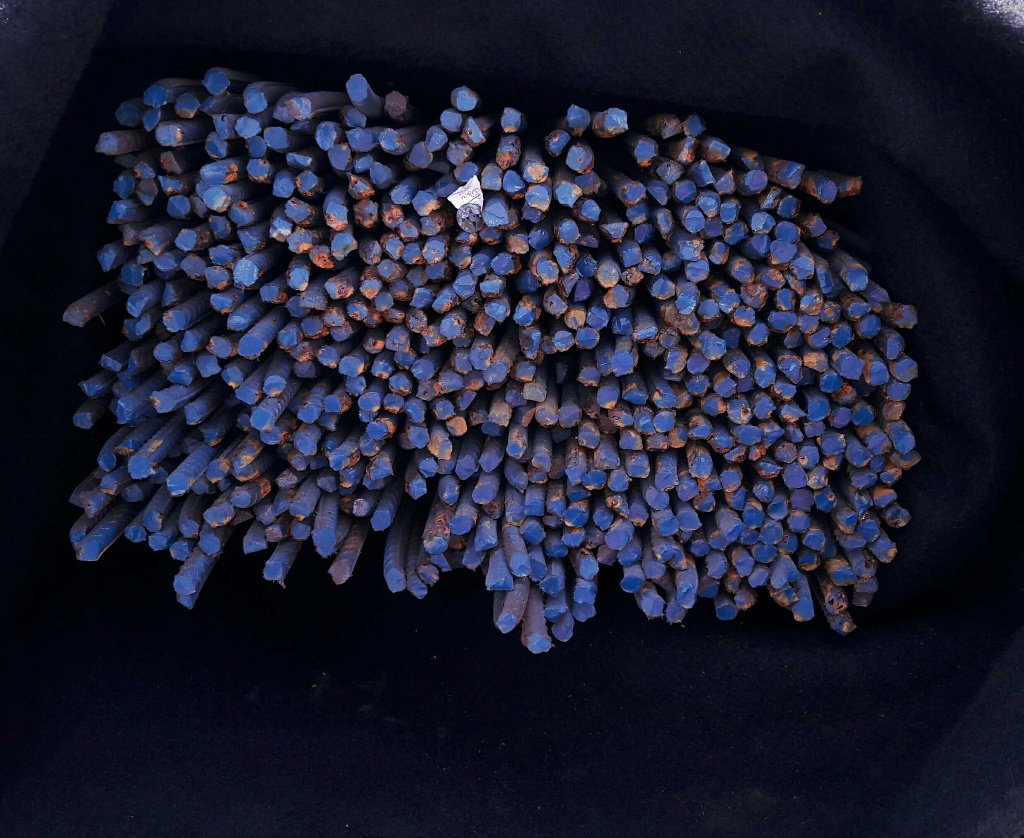dipstick: (566, 145, 594, 174), (114, 101, 143, 127), (285, 199, 313, 225), (331, 233, 357, 260), (634, 138, 659, 166), (620, 181, 646, 207), (779, 163, 805, 189), (677, 236, 703, 262), (202, 71, 229, 96), (328, 144, 353, 171), (740, 284, 767, 309), (237, 229, 265, 253), (325, 202, 348, 231), (412, 191, 438, 216), (544, 131, 570, 156), (173, 93, 199, 117), (204, 188, 230, 212), (346, 127, 372, 151), (370, 162, 394, 188), (770, 240, 797, 263), (435, 372, 463, 394), (768, 310, 797, 331), (207, 215, 231, 240), (661, 546, 686, 570), (727, 400, 752, 424), (678, 135, 698, 165), (156, 123, 182, 146), (205, 132, 228, 158), (247, 158, 273, 181), (348, 177, 374, 200), (409, 142, 432, 168), (366, 457, 392, 480), (778, 357, 801, 383), (142, 85, 169, 107), (203, 505, 230, 527), (346, 74, 368, 101), (315, 122, 336, 150), (243, 88, 267, 112), (234, 261, 258, 285), (287, 228, 311, 252), (381, 204, 405, 228), (286, 97, 311, 120), (465, 118, 488, 143), (526, 186, 549, 211), (567, 104, 590, 129), (605, 108, 628, 133), (782, 464, 807, 487), (648, 180, 671, 205), (864, 362, 889, 385), (385, 91, 407, 117), (425, 126, 447, 152), (451, 88, 477, 110), (688, 417, 714, 439), (159, 150, 182, 174), (230, 202, 253, 226), (422, 239, 445, 263), (654, 468, 678, 491), (491, 252, 515, 275), (484, 203, 508, 226), (664, 348, 687, 372), (778, 195, 801, 219), (852, 403, 876, 426), (325, 280, 354, 299), (235, 117, 260, 139), (161, 310, 186, 332), (80, 492, 102, 517), (296, 171, 318, 196), (557, 219, 579, 244), (537, 258, 559, 283), (750, 212, 775, 234), (238, 335, 264, 356), (439, 477, 460, 503), (525, 632, 551, 653), (200, 164, 227, 184), (269, 219, 292, 242), (641, 594, 664, 617), (484, 360, 507, 383), (790, 257, 813, 280), (894, 359, 917, 382), (139, 232, 161, 256), (181, 255, 205, 277), (264, 126, 288, 148), (453, 275, 475, 299), (450, 244, 472, 268), (821, 433, 845, 455), (659, 115, 683, 137), (692, 162, 714, 186), (842, 357, 864, 381), (895, 305, 917, 329), (196, 356, 221, 377), (251, 410, 276, 431), (339, 356, 364, 377), (603, 287, 628, 308), (701, 393, 726, 414), (482, 164, 502, 190), (485, 572, 512, 591), (113, 174, 135, 197), (167, 195, 190, 217), (122, 263, 144, 286), (126, 295, 149, 317), (166, 473, 189, 495), (205, 266, 228, 288), (406, 309, 428, 332), (618, 543, 641, 565), (558, 405, 581, 427), (495, 146, 518, 168), (587, 306, 609, 329), (790, 489, 813, 511), (787, 510, 810, 532), (814, 489, 836, 512), (775, 222, 797, 245), (732, 261, 755, 283), (774, 288, 797, 310), (753, 396, 776, 418), (151, 391, 175, 412), (556, 184, 580, 205), (726, 357, 750, 378), (860, 314, 881, 338), (882, 399, 906, 420), (485, 301, 510, 321), (523, 163, 548, 183), (128, 456, 150, 478), (244, 136, 266, 158), (379, 128, 401, 150), (503, 171, 525, 193), (611, 354, 633, 376), (708, 140, 730, 162), (830, 326, 852, 348), (263, 375, 286, 396), (302, 315, 323, 338), (273, 174, 294, 197), (406, 400, 427, 423), (471, 346, 492, 369), (627, 458, 650, 479), (598, 264, 619, 287), (807, 466, 828, 489), (686, 375, 709, 396), (754, 364, 775, 387), (723, 224, 746, 245), (762, 268, 785, 289), (718, 290, 739, 313), (869, 434, 892, 455), (869, 288, 890, 311), (169, 365, 193, 385), (208, 337, 232, 357), (447, 143, 471, 163), (454, 163, 478, 183), (510, 552, 530, 576), (605, 529, 629, 549), (501, 108, 521, 132), (833, 566, 857, 586), (807, 400, 831, 420), (848, 447, 872, 467), (804, 353, 828, 373), (799, 295, 823, 315), (479, 279, 504, 298), (286, 150, 311, 169), (716, 170, 735, 195), (175, 229, 196, 251), (202, 424, 224, 445), (181, 330, 202, 352), (287, 268, 308, 290), (323, 306, 345, 327), (330, 562, 351, 584), (406, 478, 427, 500), (461, 549, 483, 570), (361, 277, 382, 299), (387, 331, 409, 352), (389, 375, 411, 396), (456, 458, 477, 480), (472, 483, 494, 504), (403, 243, 424, 265), (377, 259, 399, 280), (608, 496, 629, 518), (514, 305, 536, 326), (597, 387, 618, 409), (743, 507, 764, 529), (826, 593, 848, 614), (775, 442, 797, 463), (675, 180, 696, 202), (745, 170, 767, 191), (816, 182, 837, 204), (698, 299, 720, 320), (734, 305, 756, 326), (846, 269, 868, 290), (207, 459, 227, 482), (295, 434, 318, 454), (359, 435, 382, 455), (423, 325, 446, 345), (572, 602, 595, 622), (576, 328, 599, 348), (754, 543, 777, 563), (686, 261, 709, 281), (626, 203, 649, 223), (811, 326, 831, 349), (887, 508, 910, 528), (153, 343, 177, 362), (511, 362, 535, 381), (702, 340, 726, 359), (595, 451, 620, 469), (739, 426, 764, 444), (106, 201, 127, 222), (122, 321, 143, 342), (199, 534, 220, 555), (173, 574, 194, 595), (409, 427, 430, 448), (431, 439, 452, 460), (507, 233, 528, 254), (564, 309, 585, 330), (653, 411, 674, 432), (708, 530, 729, 551), (753, 482, 774, 503), (720, 470, 741, 491), (747, 324, 768, 345), (875, 542, 896, 563), (860, 521, 881, 542), (98, 133, 118, 155), (277, 330, 299, 350), (287, 297, 309, 317), (317, 347, 339, 367), (418, 565, 440, 585), (330, 321, 352, 341), (475, 530, 497, 550), (647, 490, 669, 510), (580, 199, 600, 221), (576, 256, 598, 276), (734, 590, 756, 610), (687, 353, 709, 373), (685, 210, 705, 232), (805, 216, 827, 236), (709, 242, 729, 264), (358, 392, 381, 411), (386, 569, 405, 592), (449, 516, 472, 535), (440, 319, 463, 338), (583, 471, 606, 490), (690, 459, 713, 478), (797, 551, 820, 570), (838, 510, 857, 533), (652, 279, 675, 298), (820, 372, 843, 391), (244, 536, 268, 554), (563, 508, 587, 526), (619, 432, 643, 450), (623, 387, 647, 405), (886, 335, 904, 359), (423, 537, 448, 554), (441, 111, 462, 131), (372, 358, 393, 378), (412, 360, 433, 380), (593, 510, 614, 530), (536, 406, 557, 426), (578, 429, 599, 449), (528, 229, 549, 249), (627, 505, 648, 525), (799, 446, 819, 467), (714, 377, 735, 397), (830, 407, 851, 427), (821, 301, 841, 322), (895, 433, 915, 454), (62, 308, 84, 327), (76, 542, 98, 561), (366, 421, 388, 440), (545, 539, 567, 558), (677, 511, 699, 530), (578, 367, 600, 386), (854, 559, 876, 578), (210, 294, 233, 312), (530, 558, 548, 581), (621, 267, 644, 285), (653, 389, 676, 407), (879, 468, 902, 486), (152, 252, 176, 269), (634, 326, 658, 343), (781, 405, 805, 422), (453, 353, 473, 373), (608, 471, 628, 491), (677, 481, 697, 501), (779, 533, 799, 553), (794, 601, 814, 621), (842, 176, 862, 196), (143, 510, 162, 531), (236, 386, 257, 405), (345, 376, 366, 395), (329, 451, 350, 470), (383, 394, 404, 413), (375, 291, 394, 312), (391, 185, 412, 204), (497, 613, 516, 634), (541, 576, 562, 595), (523, 525, 544, 544), (489, 407, 510, 426), (658, 517, 679, 536), (553, 331, 574, 350), (697, 578, 718, 597), (706, 558, 727, 577), (748, 568, 769, 587), (889, 382, 910, 401), (133, 161, 155, 179), (98, 249, 116, 271), (385, 238, 403, 260), (551, 623, 573, 641), (693, 493, 715, 511), (803, 531, 825, 549), (849, 302, 871, 320), (873, 489, 895, 507), (313, 529, 336, 546), (610, 317, 633, 334), (609, 410, 632, 427), (645, 434, 668, 451), (852, 473, 876, 489), (263, 562, 283, 581), (223, 367, 242, 387), (371, 511, 390, 531), (479, 453, 499, 472), (470, 255, 490, 274), (546, 295, 566, 314), (677, 293, 696, 313), (784, 330, 804, 349), (507, 504, 525, 525), (621, 249, 642, 267), (760, 526, 781, 544), (768, 502, 789, 520), (639, 257, 660, 275), (774, 382, 795, 400), (805, 420, 826, 438), (117, 401, 134, 423), (260, 427, 282, 444), (293, 360, 315, 377), (432, 290, 449, 312), (562, 530, 584, 547), (620, 576, 643, 592), (715, 605, 738, 621), (447, 416, 466, 435), (666, 604, 685, 623), (636, 415, 655, 434), (668, 428, 687, 447), (231, 489, 251, 507), (347, 301, 367, 319), (434, 401, 454, 419), (604, 223, 628, 238), (719, 202, 737, 222), (121, 485, 142, 502), (289, 501, 310, 518), (363, 336, 384, 353), (99, 355, 121, 371), (72, 413, 94, 429), (573, 587, 595, 603), (79, 381, 102, 396), (98, 453, 117, 471), (291, 522, 310, 540), (184, 405, 202, 424), (411, 288, 430, 306), (566, 466, 585, 484), (678, 589, 696, 608), (800, 314, 819, 332), (420, 458, 437, 478), (407, 268, 427, 285), (580, 559, 597, 579), (506, 440, 526, 457), (125, 526, 146, 542), (298, 406, 319, 422), (227, 314, 248, 330), (505, 390, 526, 406), (760, 461, 781, 477), (523, 386, 545, 401), (181, 520, 199, 538), (532, 453, 550, 471), (509, 472, 527, 490), (784, 424, 802, 442), (100, 476, 117, 495), (318, 475, 337, 492), (526, 499, 545, 516), (689, 539, 708, 556), (645, 562, 665, 578), (149, 534, 167, 551), (737, 558, 754, 576), (170, 543, 189, 559), (259, 286, 279, 301), (575, 280, 590, 300), (545, 607, 568, 620), (324, 395, 341, 412), (547, 500, 564, 517), (352, 499, 369, 515), (266, 526, 282, 542), (410, 583, 427, 598)
